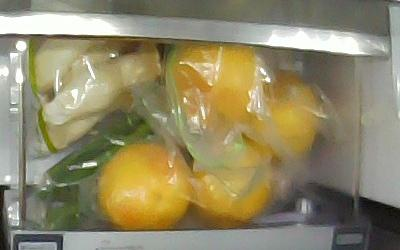grapefruit_vinyl: (96, 142, 192, 228), (168, 46, 263, 130), (241, 68, 322, 159), (192, 140, 272, 223)
